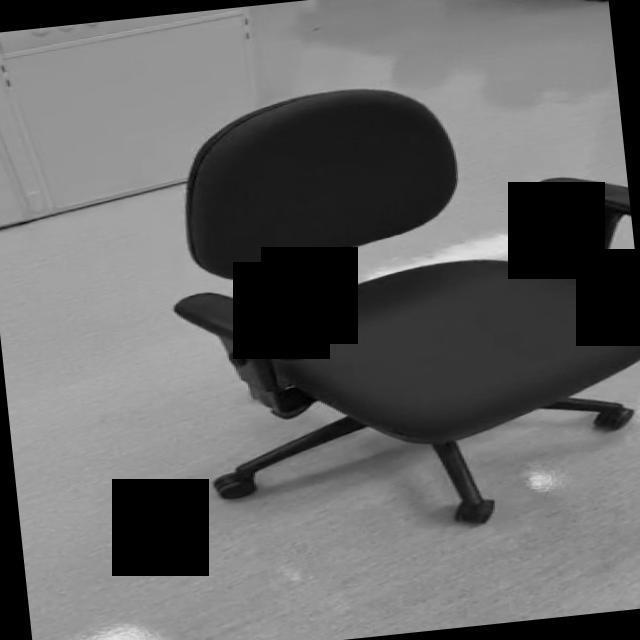chair: (153, 60, 640, 553)
